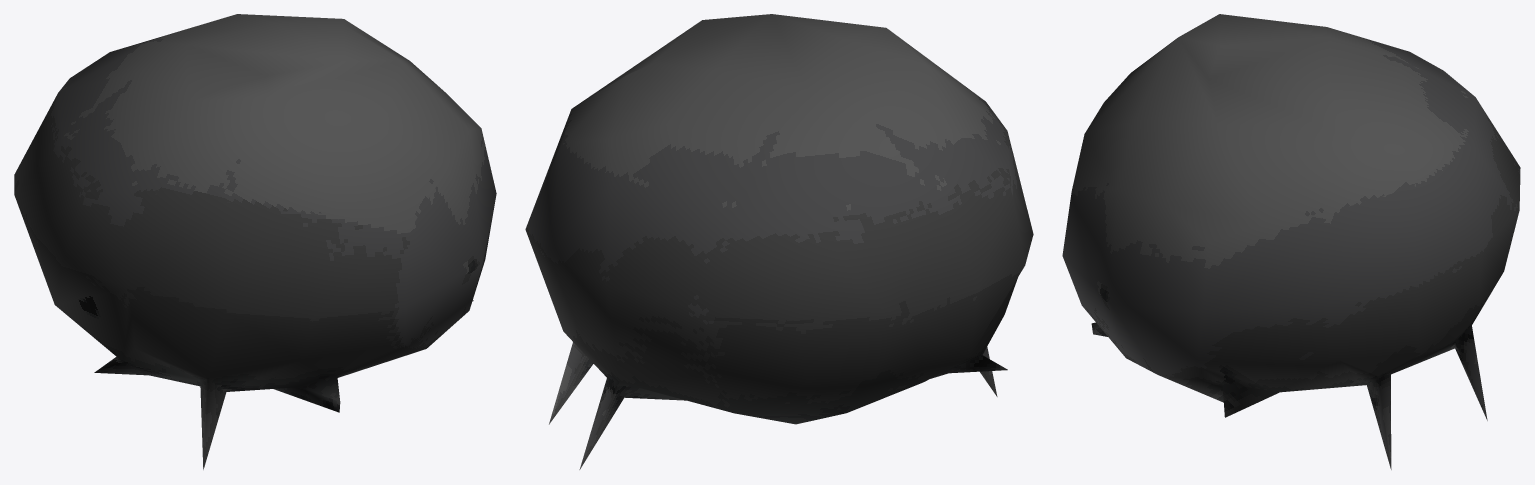
Rendered from enemy_mite.glb.
3 views of the same model, side by side, from view 1: azimuth 30°, elevation 25°; view 2: azimuth 150°, elevation 25°; view 3: azimuth 270°, elevation 25° (orthographic). The views are drawn at different scales.
Parts seen in each view (by area): view 1: enemy_mite; view 2: enemy_mite; view 3: enemy_mite.
Boxes of the visible parts, x1,y1,x2,y2 form: enemy_mite: (14, 14, 496, 469); enemy_mite: (525, 14, 1033, 469); enemy_mite: (1062, 14, 1520, 469).
Bounding box in the file's own units: 0.5451 × 0.4392 × 0.5413.
1 material, 1 textured.
